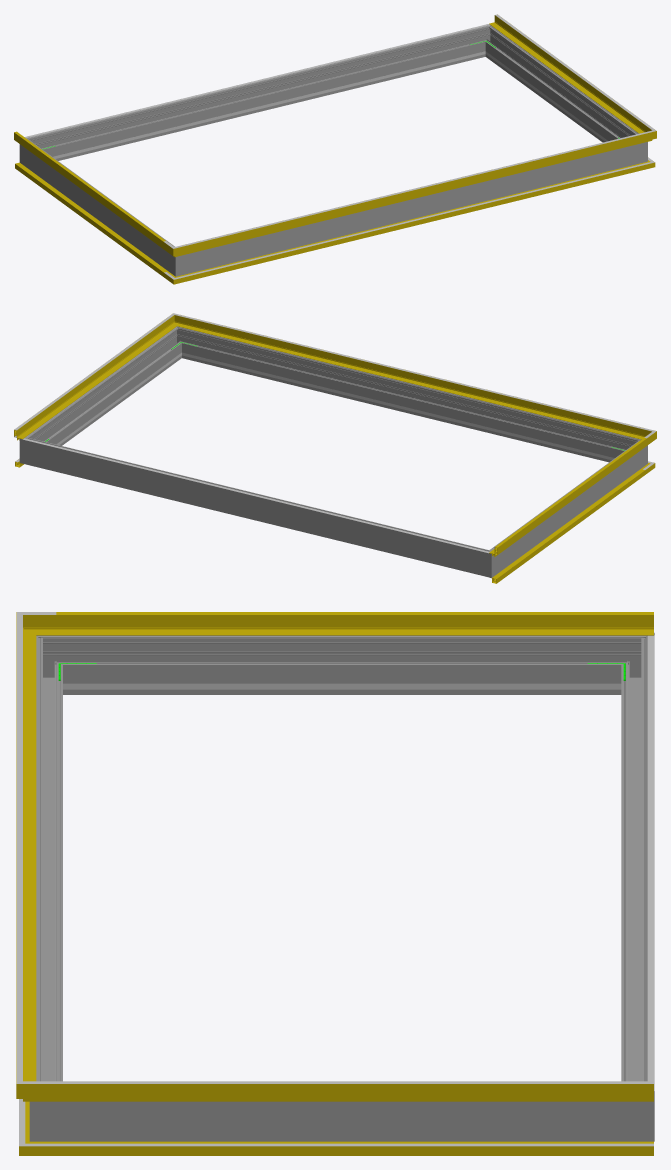
3 views of the same model, one above another, from view 1: azimuth 30°, elevation 25°; view 2: azimuth 150°, elevation 25°; view 3: azimuth 270°, elevation 25° (orthographic). The views are drawn at different scales.
Visible parts, largest first — view 1: 3DGeom-278, 3DGeom-300, 3DGeom-299, 3DGeom-56, 3DGeom-11, 3DGeom-270, 3DGeom-58, 3DGeom-246, 3DGeom-50, 3DGeom-6, 3DGeom-222, 3DGeom-66 (+6 smaller); view 2: 3DGeom-300, 3DGeom-278, 3DGeom-56, 3DGeom-299, 3DGeom-270, 3DGeom-58, 3DGeom-241, 3DGeom-50, 3DGeom-6, 3DGeom-222, 3DGeom-66, 3DGeom-280 (+6 smaller); view 3: 3DGeom-270, 3DGeom-299, 3DGeom-50, 3DGeom-278, 3DGeom-300, 3DGeom-58, 3DGeom-16, 3DGeom-56, 3DGeom-234, 3DGeom-222, 3DGeom-66, 3DGeom-18 (+7 smaller).
Boxes of the visible parts, left/top/right/bottom form: 3DGeom-278: left=38, top=28, right=482, bottom=160; 3DGeom-300: left=193, top=146, right=630, bottom=272; 3DGeom-299: left=487, top=31, right=634, bottom=142; 3DGeom-56: left=189, top=135, right=639, bottom=253; 3DGeom-11: left=189, top=164, right=637, bottom=280; 3DGeom-270: left=29, top=144, right=170, bottom=269; 3DGeom-58: left=489, top=15, right=643, bottom=132; 3DGeom-246: left=59, top=55, right=468, bottom=157; 3DGeom-50: left=14, top=132, right=163, bottom=248; 3DGeom-6: left=15, top=162, right=167, bottom=276; 3DGeom-222: left=24, top=24, right=489, bottom=138; 3DGeom-66: left=189, top=134, right=639, bottom=244; 3DGeom-300: left=184, top=330, right=628, bottom=462; 3DGeom-278: left=37, top=440, right=477, bottom=573; 3DGeom-56: left=185, top=318, right=637, bottom=437; 3DGeom-299: left=32, top=332, right=180, bottom=445; 3DGeom-270: left=496, top=445, right=637, bottom=570; 3DGeom-58: left=14, top=321, right=171, bottom=440; 3DGeom-241: left=198, top=356, right=608, bottom=459; 3DGeom-50: left=489, top=438, right=646, bottom=556; 3DGeom-6: left=491, top=469, right=645, bottom=583; 3DGeom-222: left=22, top=438, right=489, bottom=553; 3DGeom-66: left=189, top=317, right=638, bottom=427; 3DGeom-280: left=474, top=545, right=501, bottom=577; 3DGeom-270: left=69, top=635, right=614, bottom=694; 3DGeom-299: left=69, top=1101, right=614, bottom=1141; 3DGeom-50: left=56, top=615, right=653, bottom=635; 3DGeom-278: left=621, top=649, right=647, bottom=1081; 3DGeom-300: left=36, top=649, right=62, bottom=1081; 3DGeom-58: left=56, top=1084, right=653, bottom=1101; 3DGeom-16: left=58, top=1141, right=653, bottom=1155; 3DGeom-56: left=16, top=629, right=36, bottom=1081; 3DGeom-234: left=101, top=683, right=582, bottom=689; 3DGeom-222: left=648, top=635, right=654, bottom=1090; 3DGeom-66: left=16, top=629, right=22, bottom=1067; 3DGeom-18: left=59, top=1143, right=653, bottom=1146.
Size of the model in its own units: 4.27 by 0.307 by 2.44.
